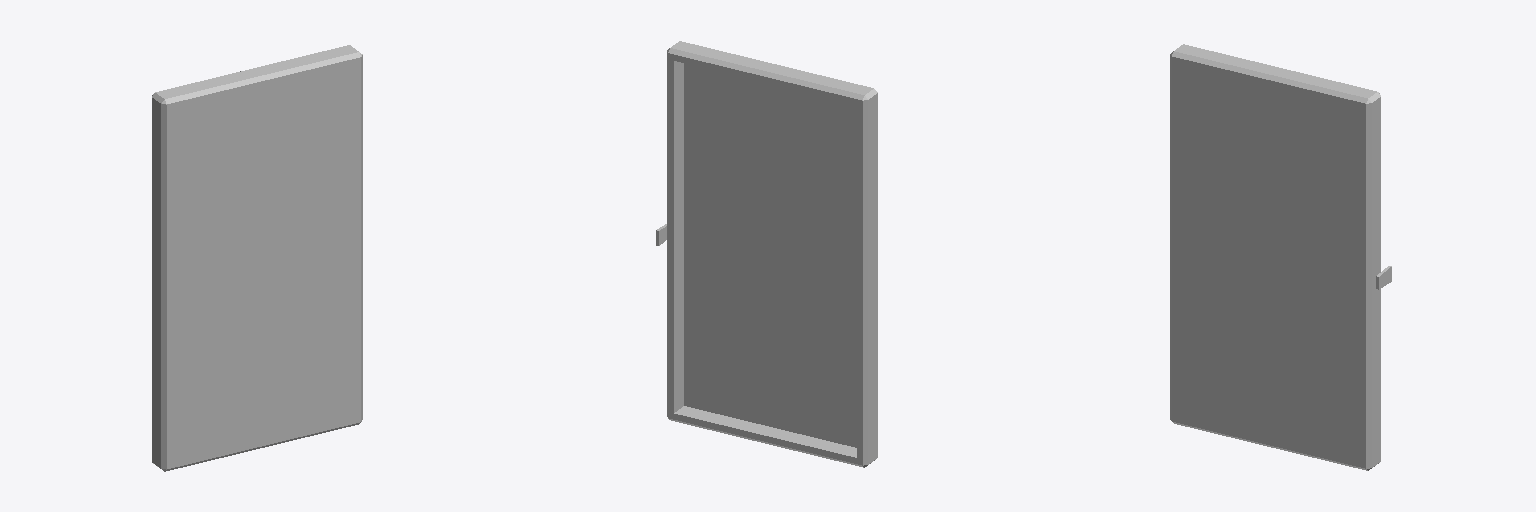
File: puzzlebox_lid.obj
3 renders of one model, left to right at view 1: azimuth 30°, elevation 25°; view 2: azimuth 150°, elevation 25°; view 3: azimuth 330°, elevation 25°, orthographic.
Visible parts, largest first — view 1: puzzlebox_lid; view 2: puzzlebox_lid; view 3: puzzlebox_lid.
Part boxes in pixels (left/top/right/bottom): puzzlebox_lid: left=152, top=45, right=362, bottom=471; puzzlebox_lid: left=656, top=41, right=877, bottom=467; puzzlebox_lid: left=1170, top=44, right=1391, bottom=470.
Bounding box in the file's own units: 17.25 × 30 × 2.79.